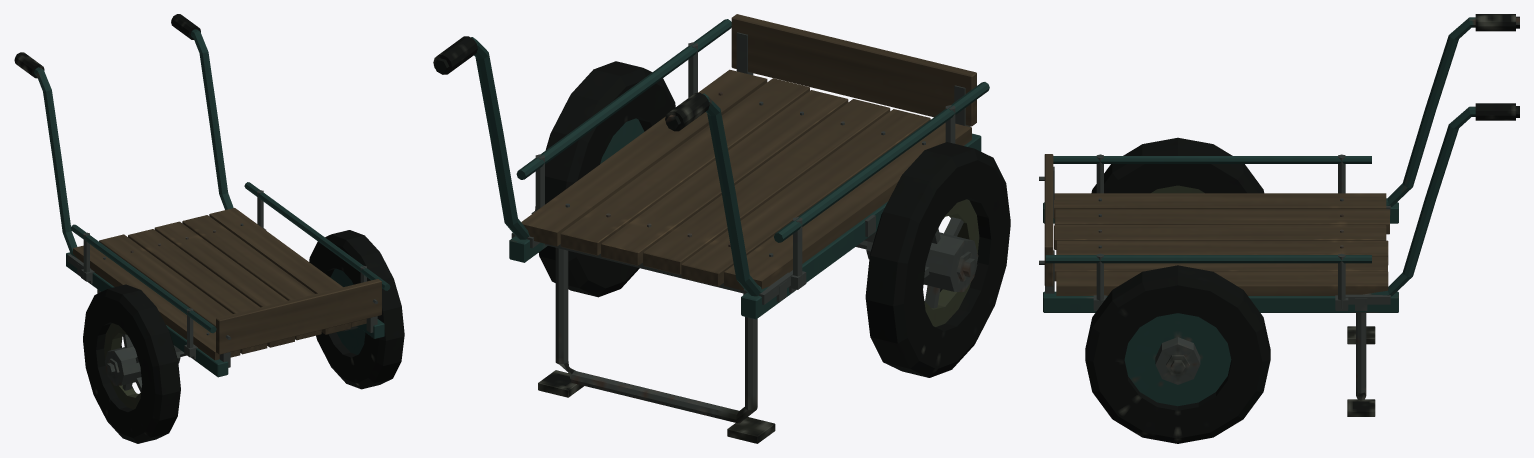
Rendered from salvage_handcart.glb.
3 renders of one model, left to right at view 1: azimuth 30°, elevation 25°; view 2: azimuth 150°, elevation 25°; view 3: azimuth 270°, elevation 25°, orthographic. The views are drawn at different scales.
Visible parts, largest first — view 1: HandcartBody, HandcartWheelLeft, HandcartWheelRight; view 2: HandcartBody, HandcartWheelLeft, HandcartWheelRight; view 3: HandcartBody, HandcartWheelRight, HandcartWheelLeft.
Part boxes in pixels (left/top/right/bottom): HandcartBody: left=14, top=14, right=390, bottom=378; HandcartWheelLeft: left=83, top=284, right=180, bottom=443; HandcartWheelRight: left=309, top=230, right=404, bottom=389; HandcartBody: left=433, top=14, right=989, bottom=443; HandcartWheelLeft: left=865, top=142, right=1010, bottom=377; HandcartWheelRight: left=535, top=61, right=675, bottom=297; HandcartBody: left=1039, top=14, right=1519, bottom=416; HandcartWheelRight: left=1085, top=265, right=1270, bottom=443; HandcartWheelLeft: left=1091, top=137, right=1264, bottom=193.
Size of what is drawn, in the model's own units: 0.846 by 0.807 by 1.12.
Materials: 1 (1 with a texture image).
